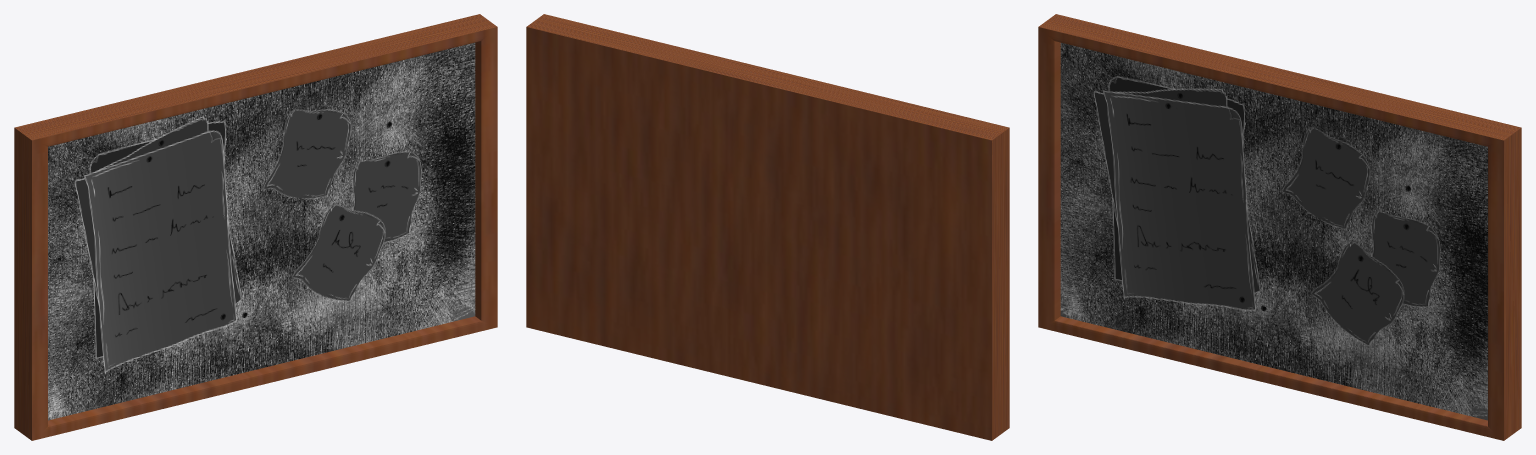
Rendered from Tafel.fbx.
The picture shows the model from 3 angles, left to right: view 1: azimuth 30°, elevation 25°; view 2: azimuth 150°, elevation 25°; view 3: azimuth 330°, elevation 25°; orthographic projection.
Parts seen in each view (by area): view 1: Cube.004; view 2: Cube.004; view 3: Cube.004.
Boxes of the visible parts, box(x1,y1,x2,y2) form: Cube.004: box(14, 14, 497, 440); Cube.004: box(526, 14, 1009, 440); Cube.004: box(1038, 14, 1521, 440).
Size of the model in its own units: 81.28 by 50.11 by 5.35.
